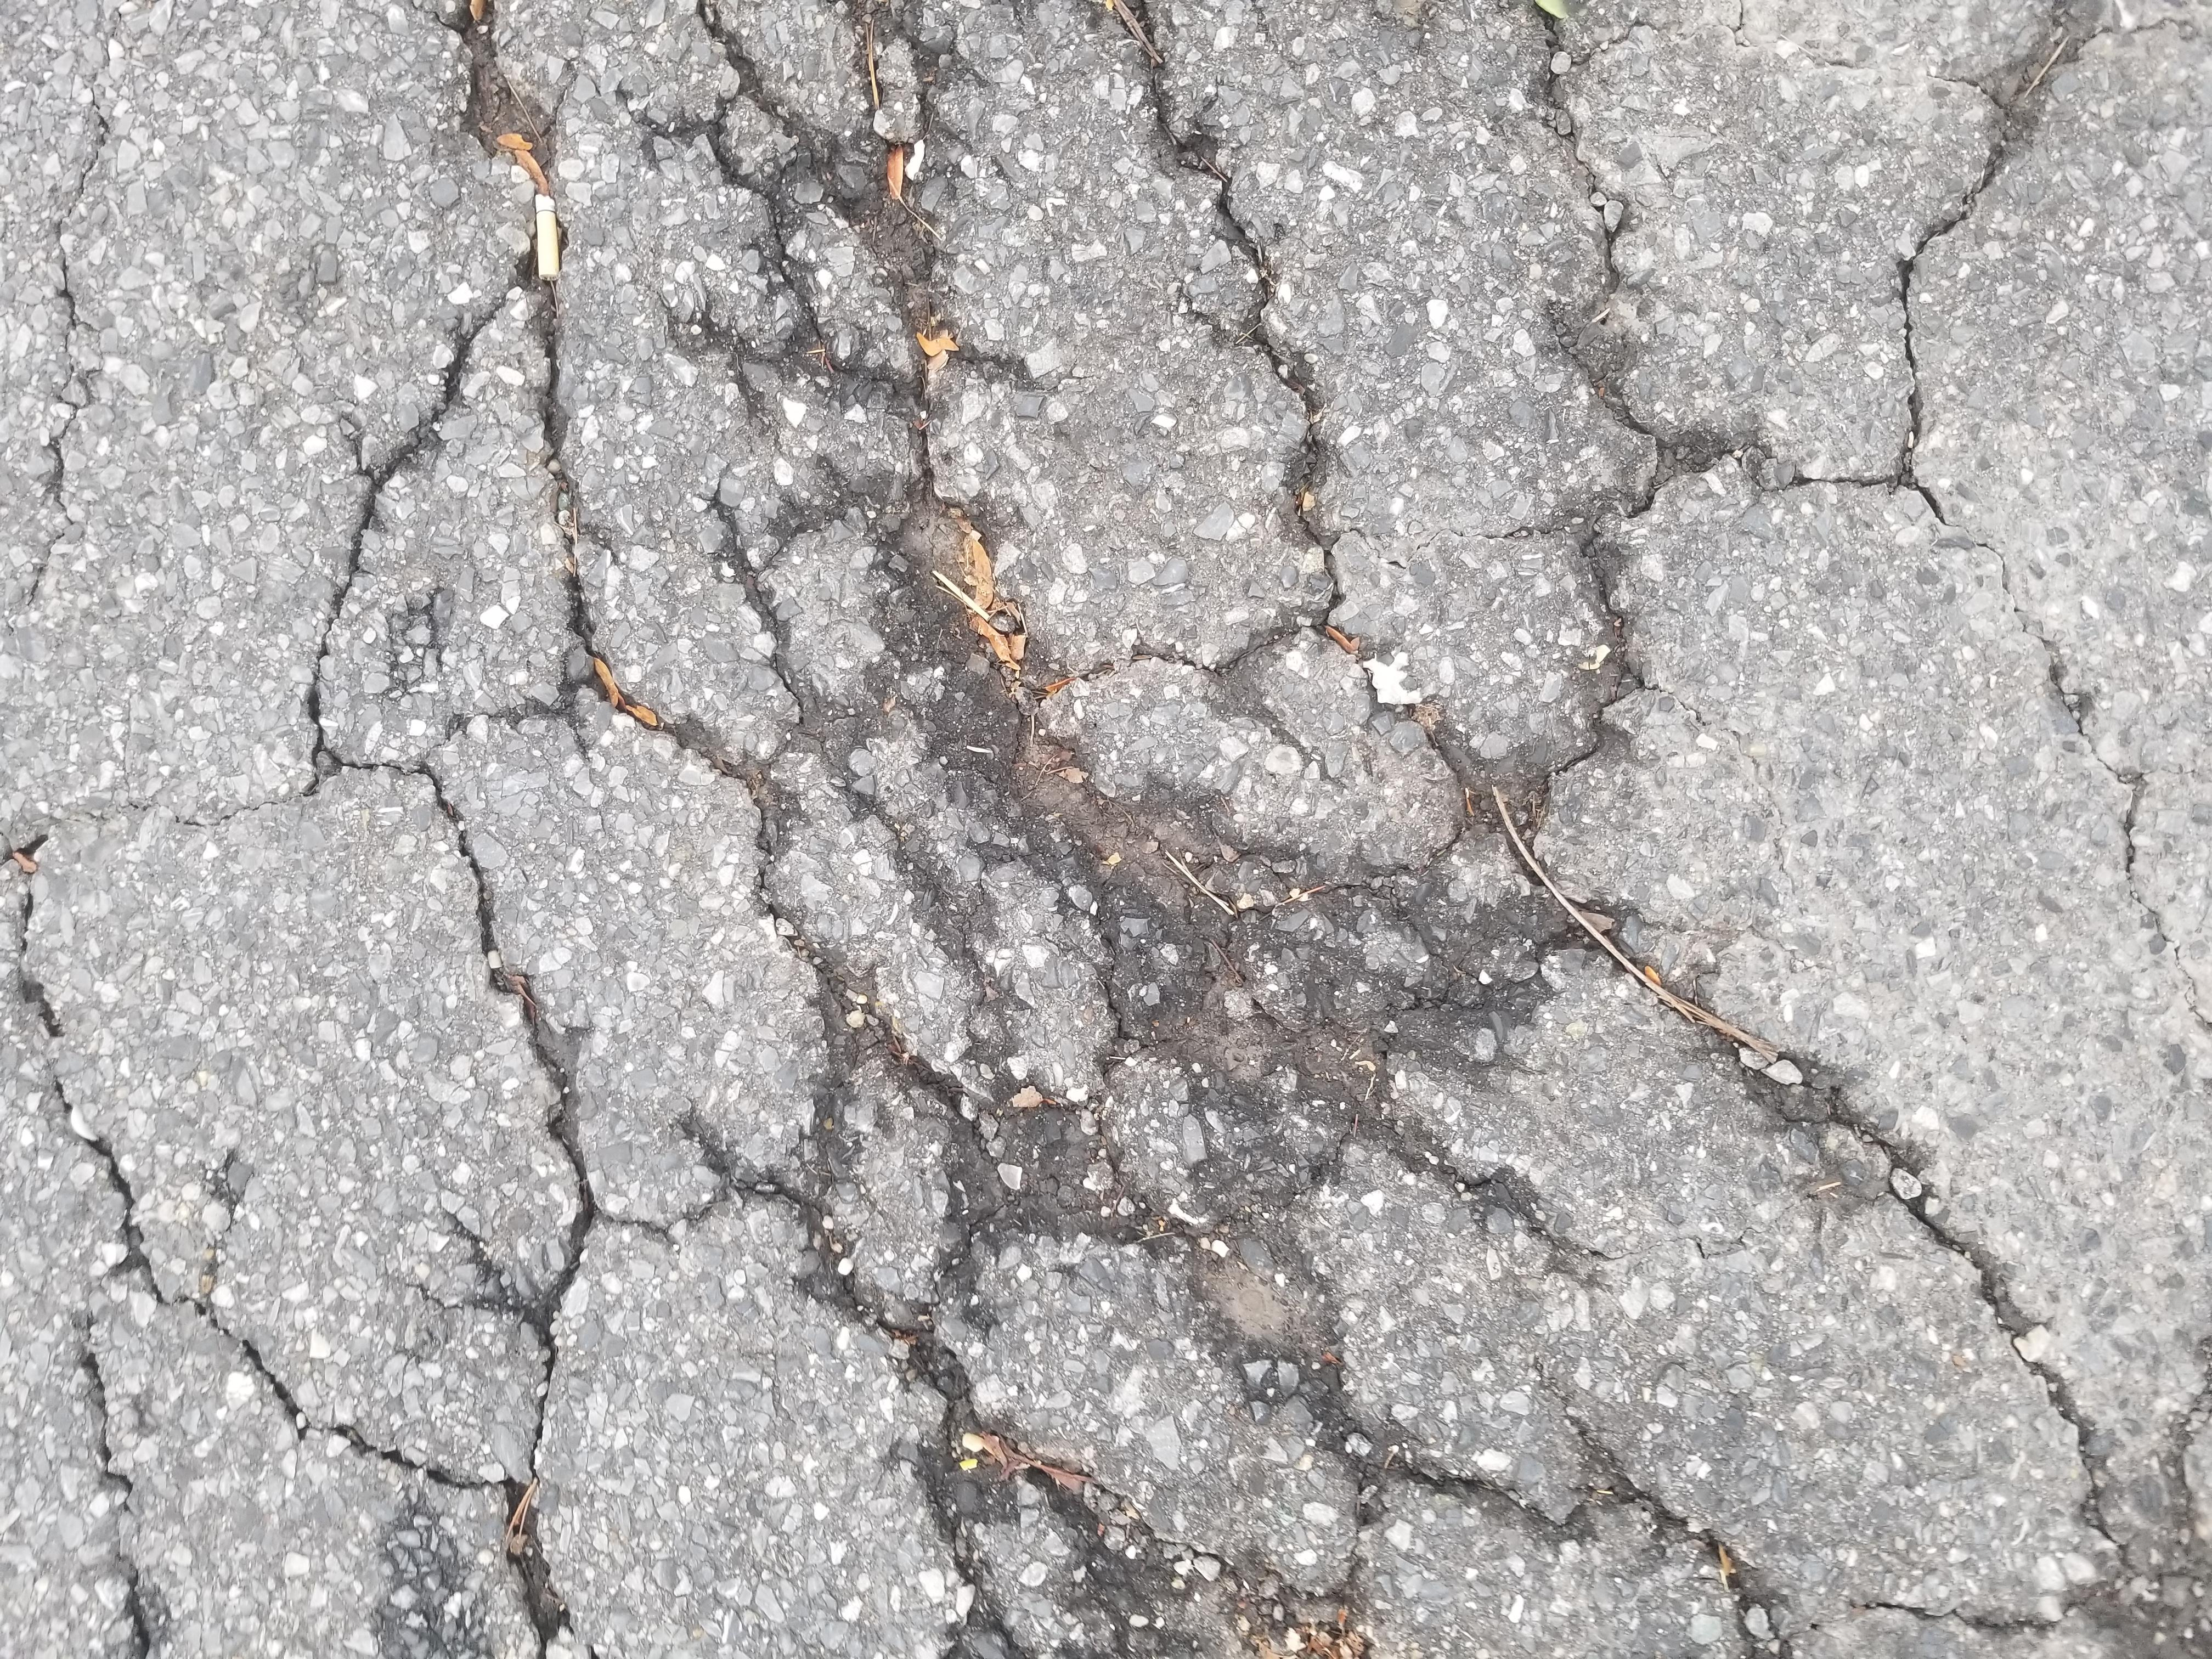alligator-crack: (19, 7, 2212, 1659)
